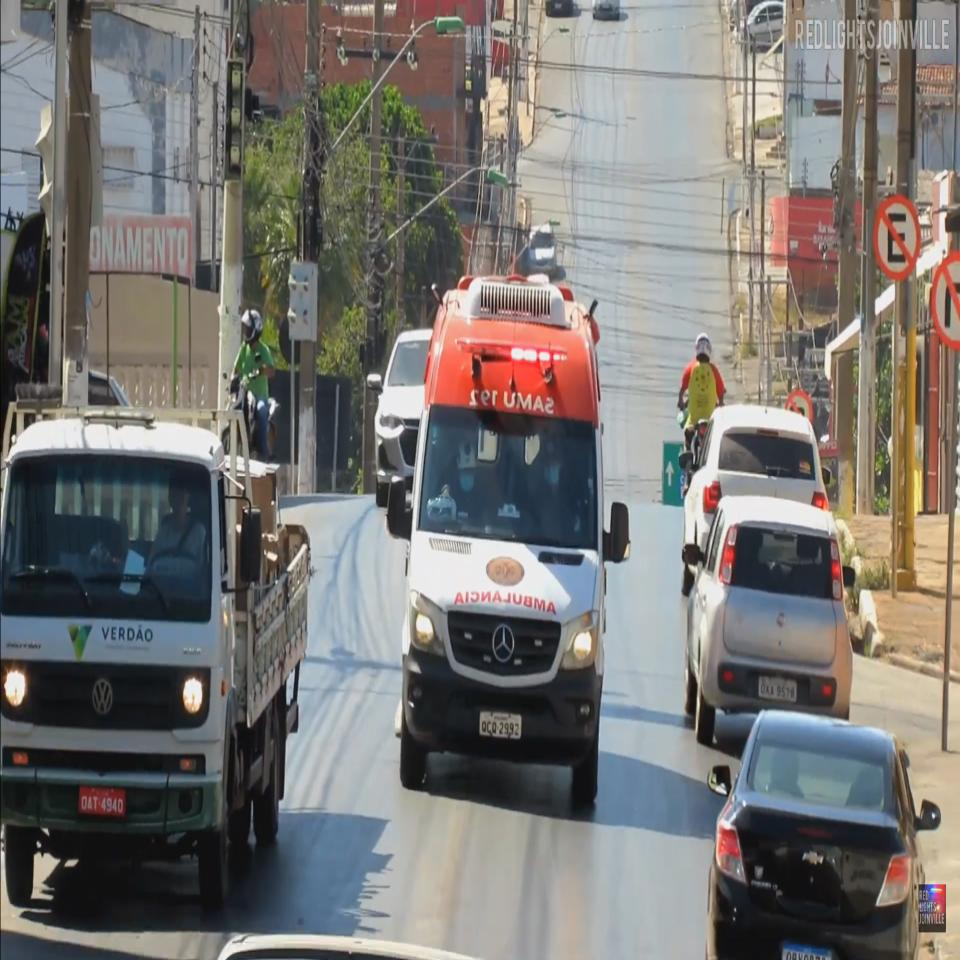bombeiro: (384, 270, 635, 810)
